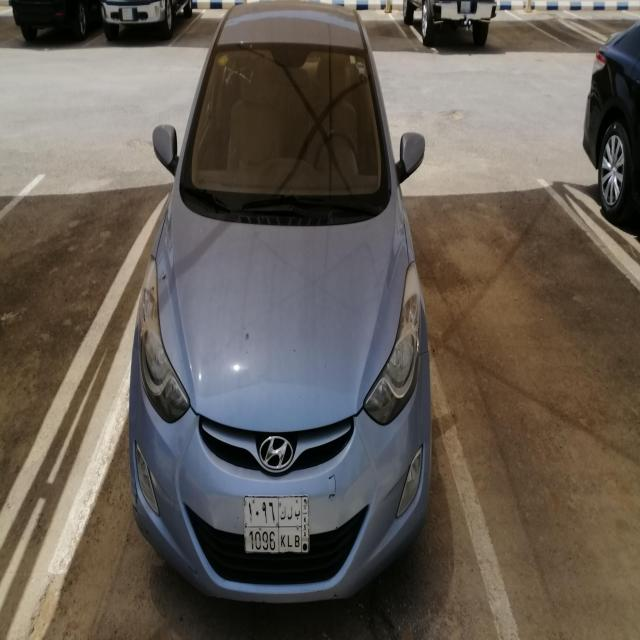license_plate: (244, 495, 309, 552), (121, 6, 133, 22), (460, 0, 471, 16)
